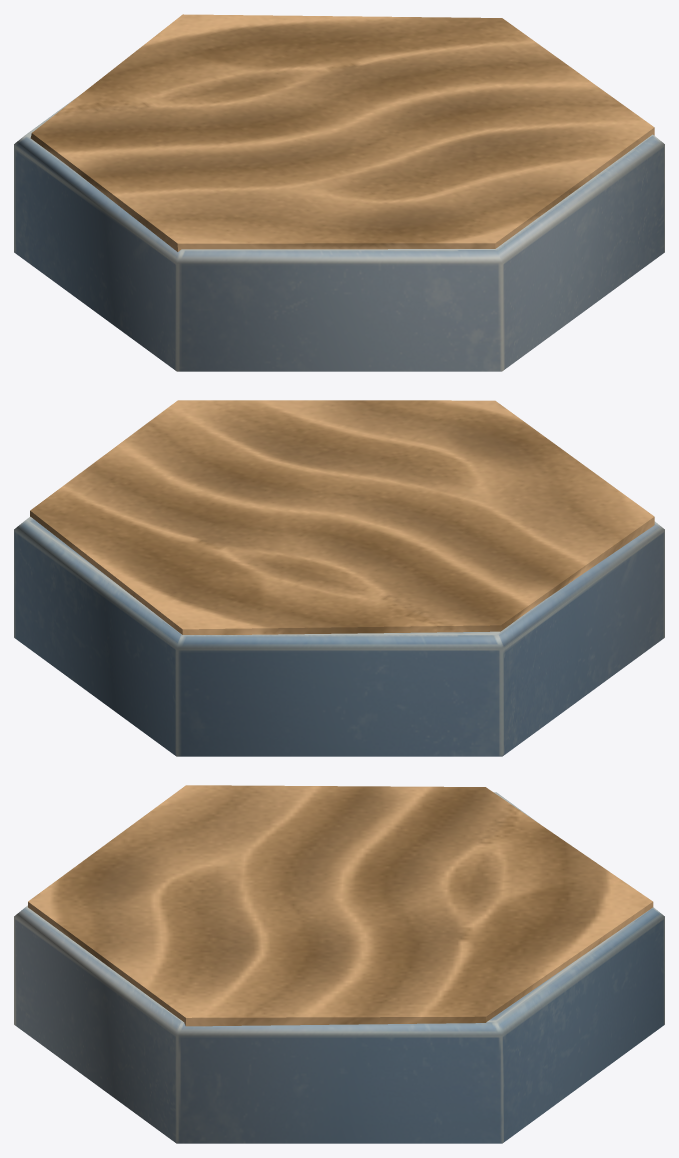
Rendered from sand.fbx.
The picture shows the model from 3 angles, top to bottom: view 1: azimuth 30°, elevation 25°; view 2: azimuth 150°, elevation 25°; view 3: azimuth 270°, elevation 25°; orthographic projection.
Visible parts, largest first — view 1: sand; view 2: sand; view 3: sand.
Part boxes in pixels (<box>): sand: <box>14,14,664,371</box>; sand: <box>14,400,664,756</box>; sand: <box>14,785,664,1143</box>.
Size of the model in its own units: 83.34 by 20.08 by 96.24.
Materials: 2 (2 with a texture image).
